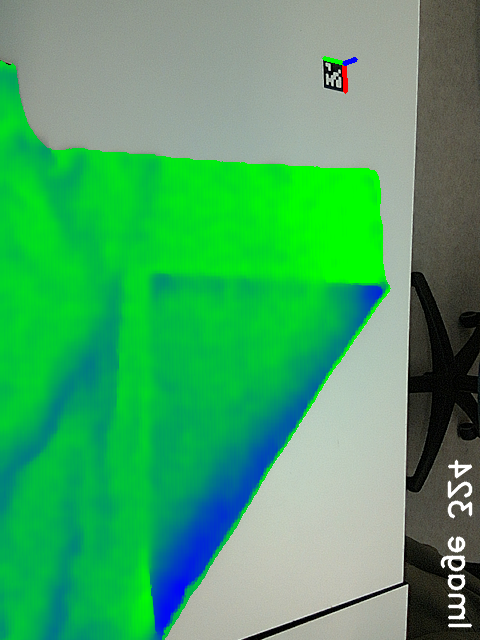V: (135, 259, 183, 309)
